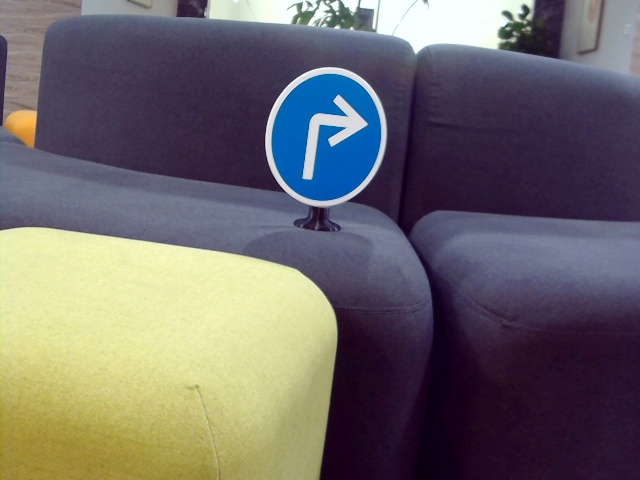turn_right: (296, 91, 366, 180)
